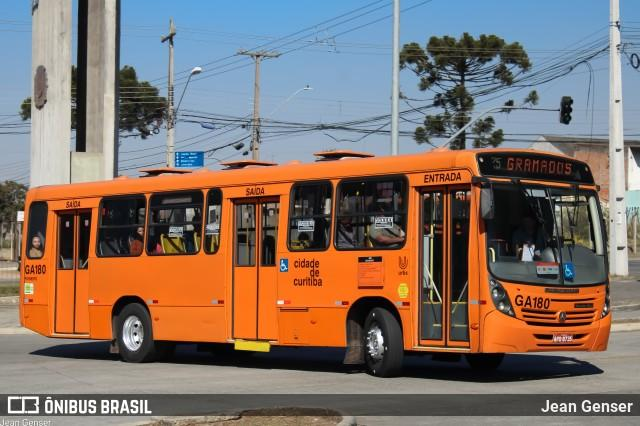GRAMADOS: (503, 153, 576, 179)
